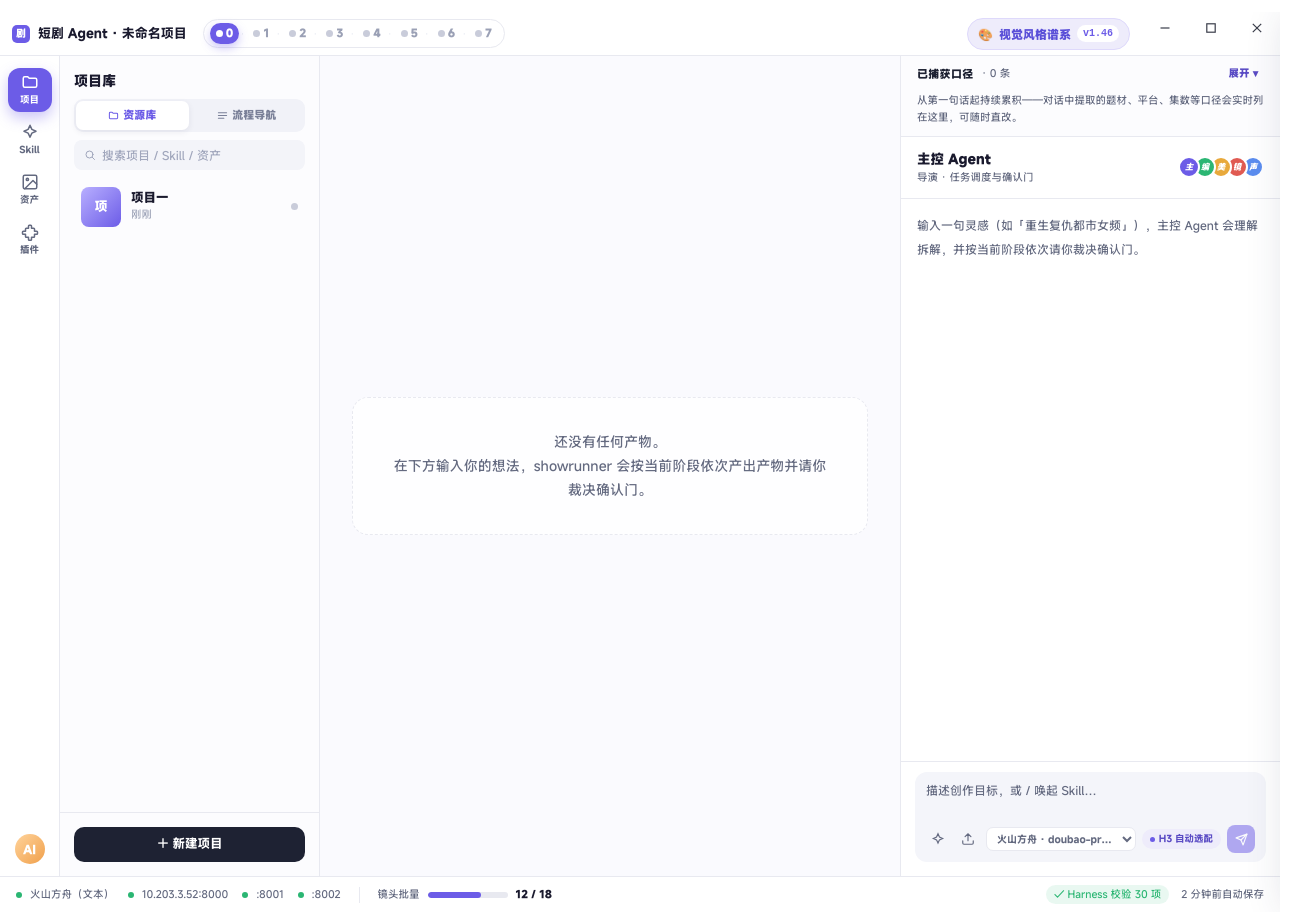
Test case: C7 · StudioApp 立项驱动 › 发送指定 showrunner 且不传 tools；用户气泡上屏
The width and height of the screenshot is (1292, 912).
Type "重生复仇都市女频" into the text box with placeholder "描述创作目标，或 / 唤起 Skill…" at point(1090, 798), box [926, 781, 1255, 815]
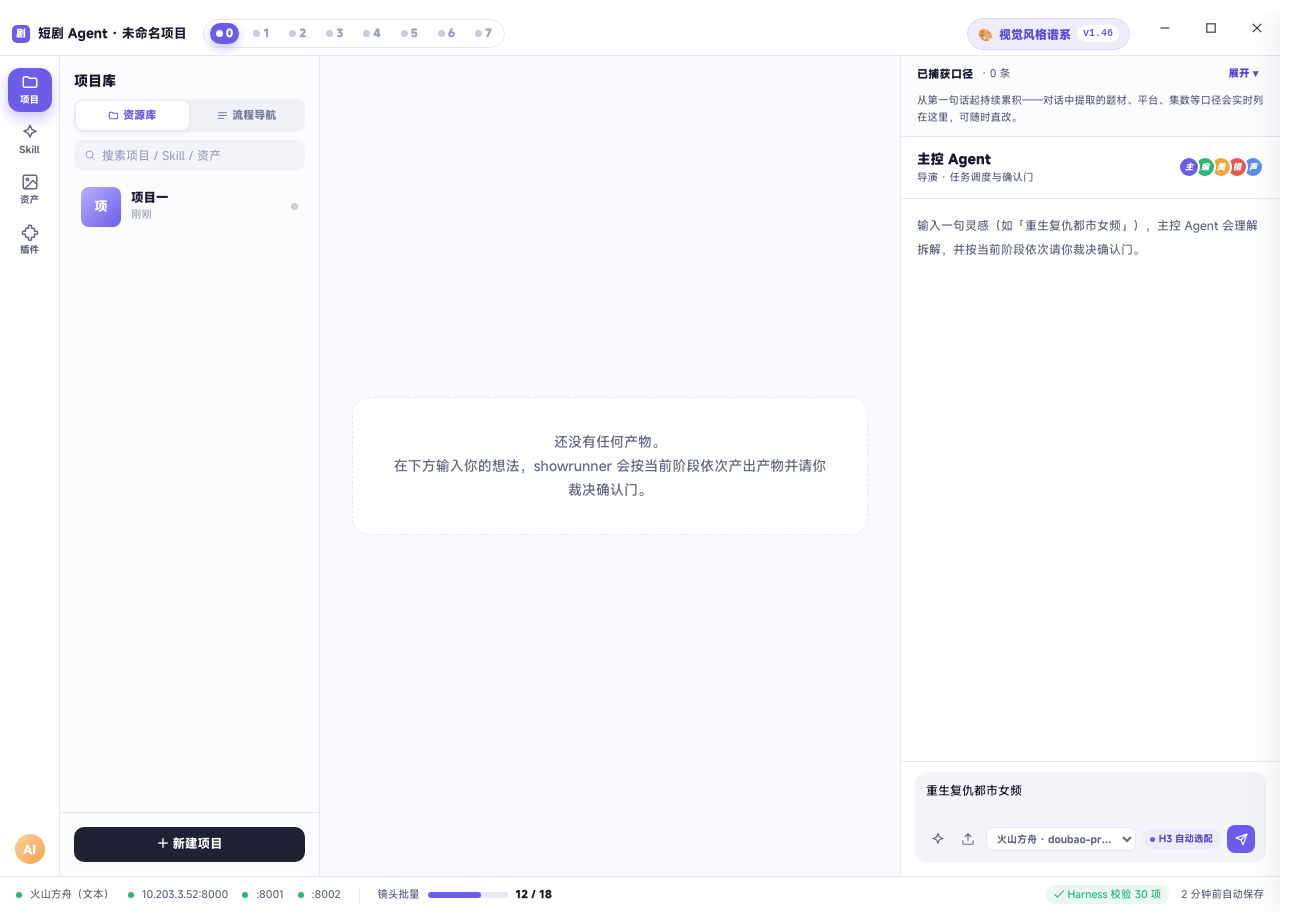
Click the button named "发送" at point(1241, 839), box [1227, 825, 1255, 853]
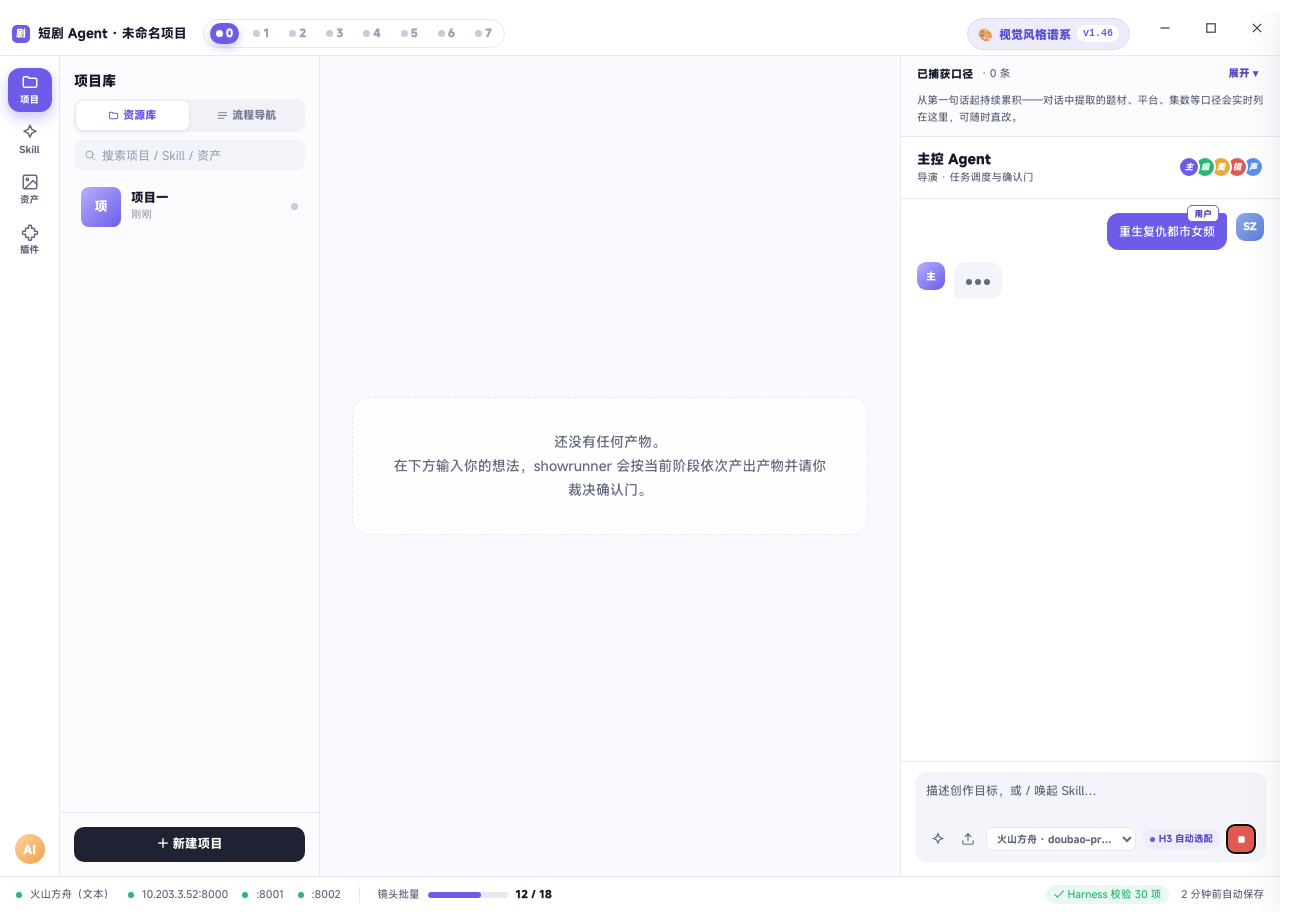
Expected: the text "重生复仇都市女频" is shown, [1119, 223, 1215, 239]
